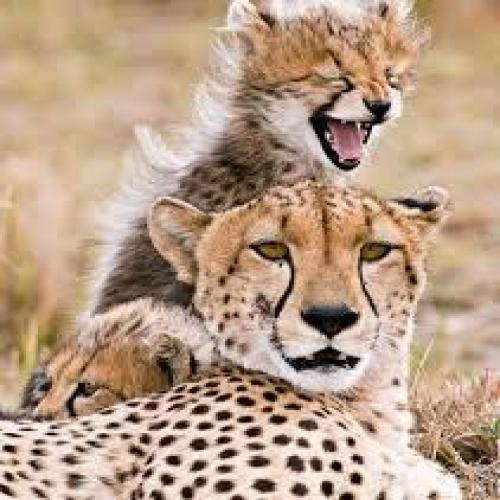cheetah-endangered: (0, 178, 468, 497), (86, 0, 424, 310), (29, 307, 214, 420)
